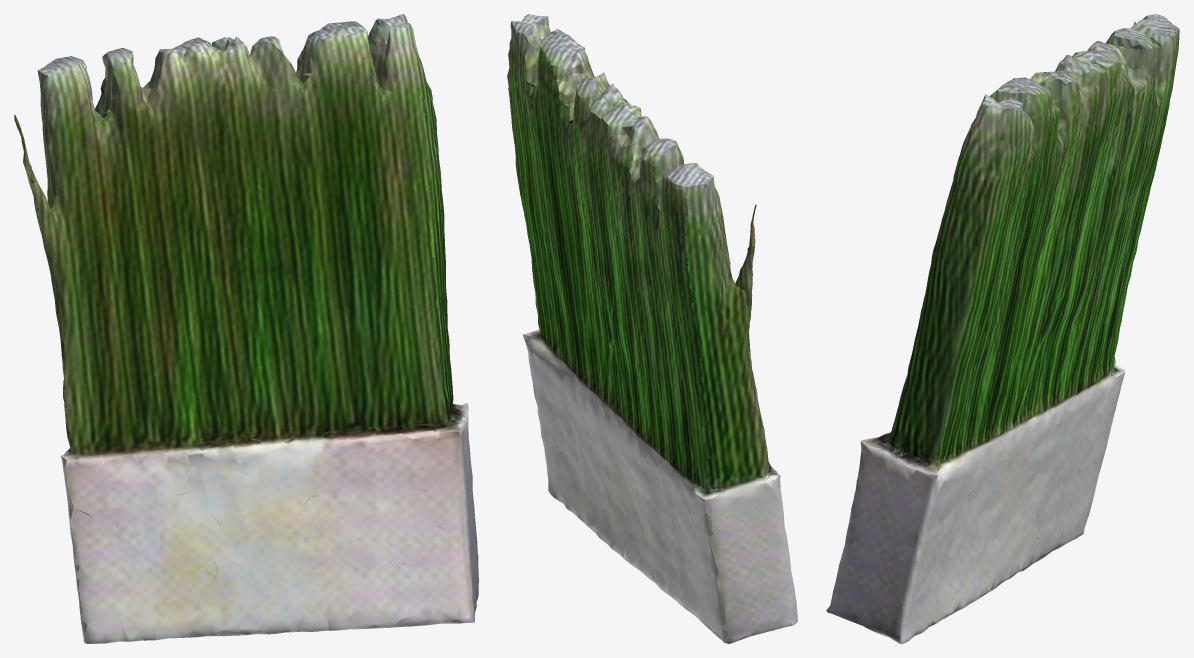
The picture shows the model from 3 angles, left to right: view 1: azimuth 30°, elevation 25°; view 2: azimuth 150°, elevation 25°; view 3: azimuth 270°, elevation 25°; orthographic projection. The views are drawn at different scales.
Visible parts, largest first — view 1: world; view 2: world; view 3: world.
Part boxes in pixels (box(x1,y1,x2,y2)): world: box(14, 14, 478, 643); world: box(507, 14, 797, 643); world: box(826, 14, 1179, 643).
Bounding box in the file's own units: 0.6137 × 0.9572 × 0.5539.
1 material, 1 textured.
